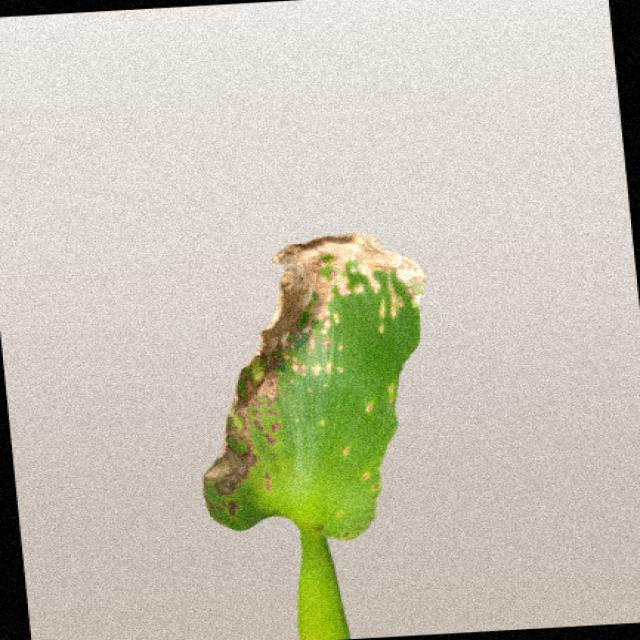daun berpenyakit bercak: (203, 234, 425, 640)
